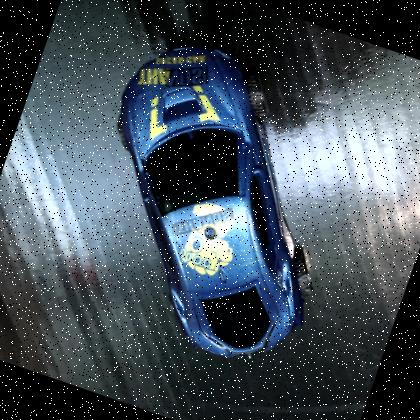Car: (117, 42, 308, 356)
